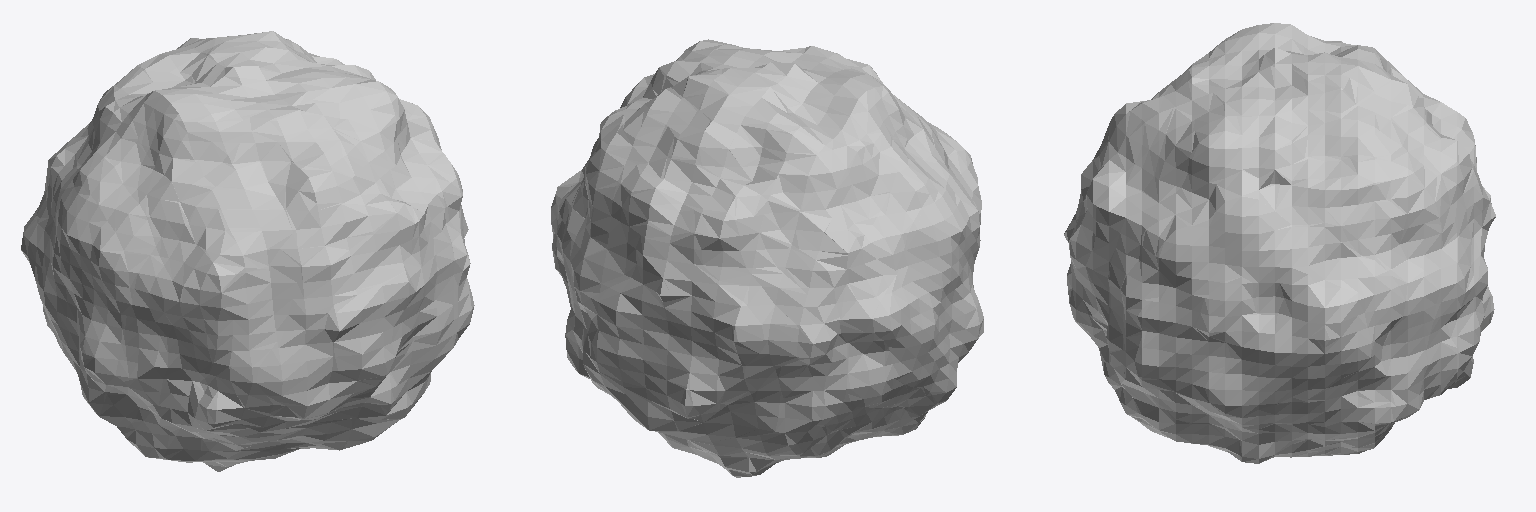
File: rock2.obj
3 views of the same model, side by side, from view 1: azimuth 30°, elevation 25°; view 2: azimuth 150°, elevation 25°; view 3: azimuth 270°, elevation 25° (orthographic).
Bounding box in the file's own units: 2.78 × 2.71 × 2.7.